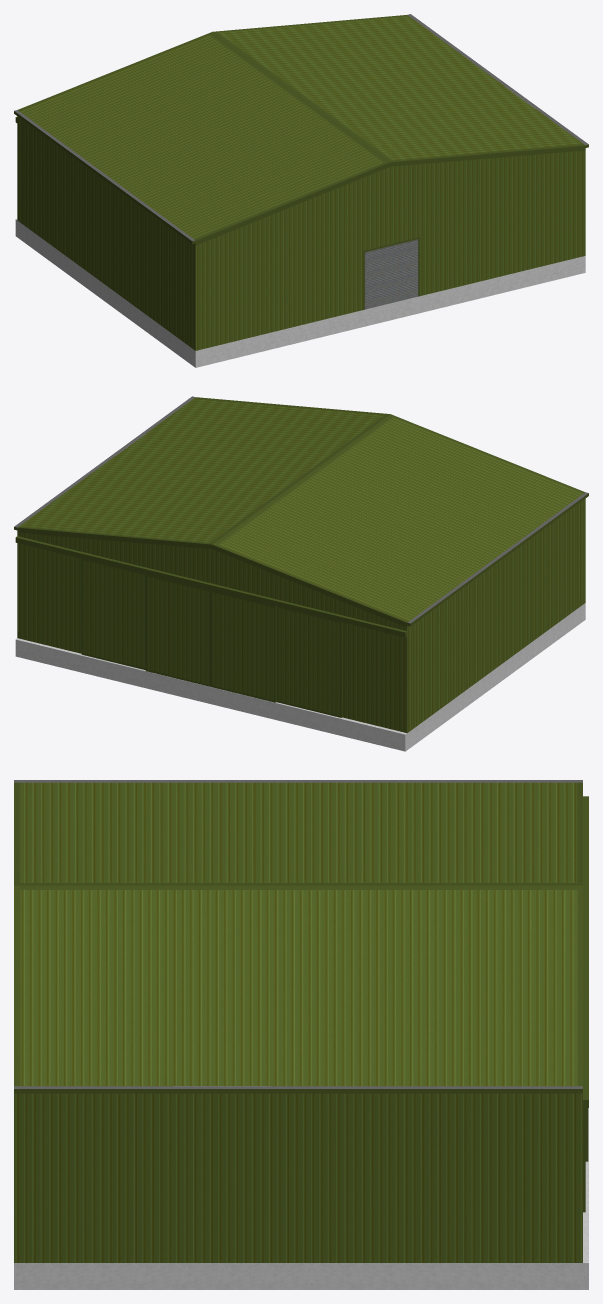
File: hangar-24x19x7green-cbj_LOD00.gltf
The picture shows the model from 3 angles, top to bottom: view 1: azimuth 30°, elevation 25°; view 2: azimuth 150°, elevation 25°; view 3: azimuth 270°, elevation 25°; orthographic projection. The views are drawn at different scales.
Parts seen in each view (by area): view 1: hanger00; view 2: hanger00; view 3: hanger00.
Boxes of the visible parts, x1,y1,x2,y2 form: hanger00: (14, 14, 588, 367); hanger00: (14, 396, 588, 751); hanger00: (14, 780, 588, 1289).
Bounding box in the file's own units: 24.42 × 9.3 × 19.2.
